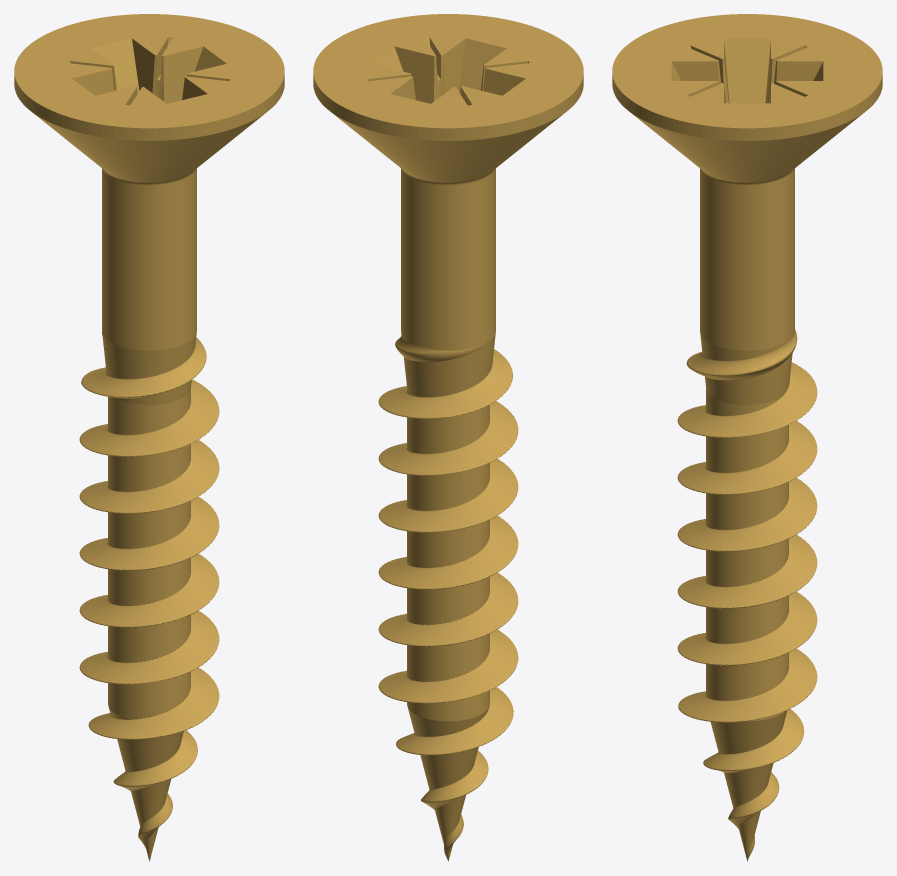
Rendered from model_full.glb.
3 renders of one model, left to right at view 1: azimuth 30°, elevation 25°; view 2: azimuth 150°, elevation 25°; view 3: azimuth 270°, elevation 25°, orthographic.
Parts seen in each view (by area): view 1: geometry_0; view 2: geometry_0; view 3: geometry_0.
Part boxes in pixels (<box>): geometry_0: <box>14,14,284,861</box>; geometry_0: <box>313,14,583,861</box>; geometry_0: <box>612,14,882,861</box>.
Bounding box in the file's own units: 0.00775 × 0.025 × 0.00775.
